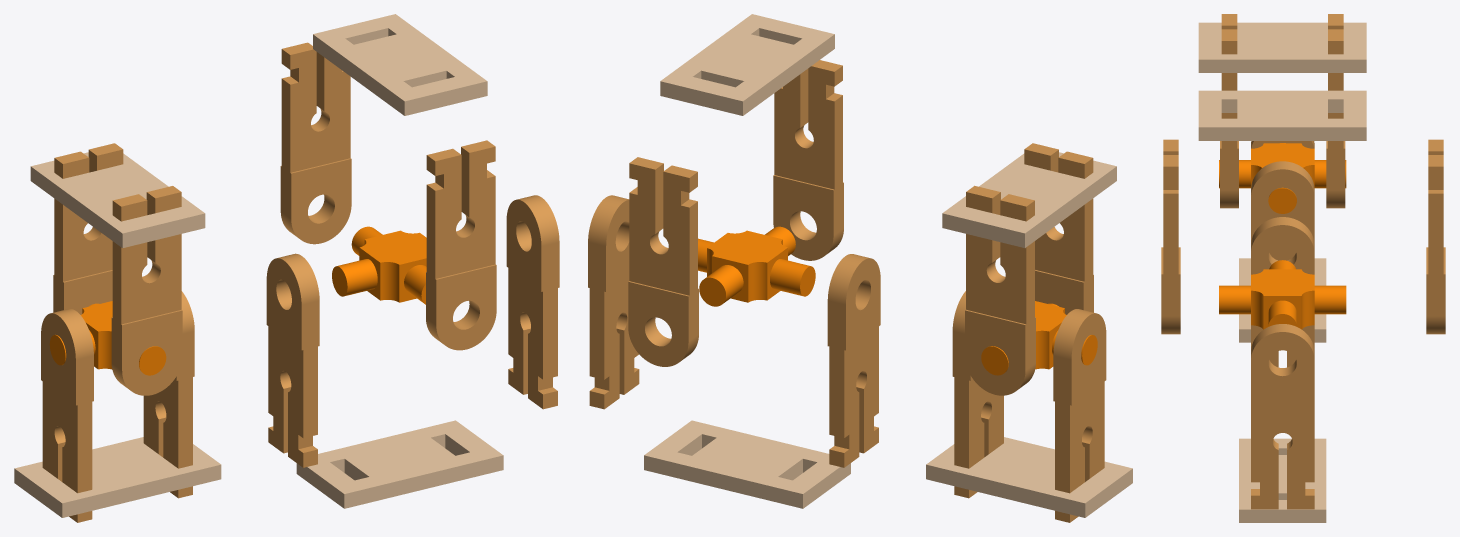
3 renders of one model, left to right at view 1: azimuth 30°, elevation 25°; view 2: azimuth 150°, elevation 25°; view 3: azimuth 270°, elevation 25°, orthographic. The views are drawn at different scales.
Bounding box in the file's own units: 8.34 × 6.56 × 4.46.
